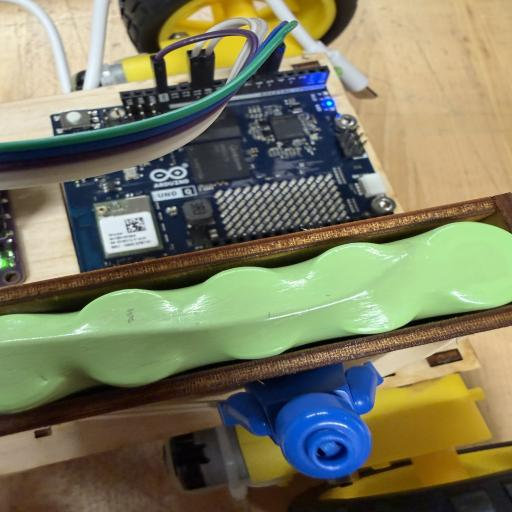Blue-Lego: (217, 362, 383, 479)
